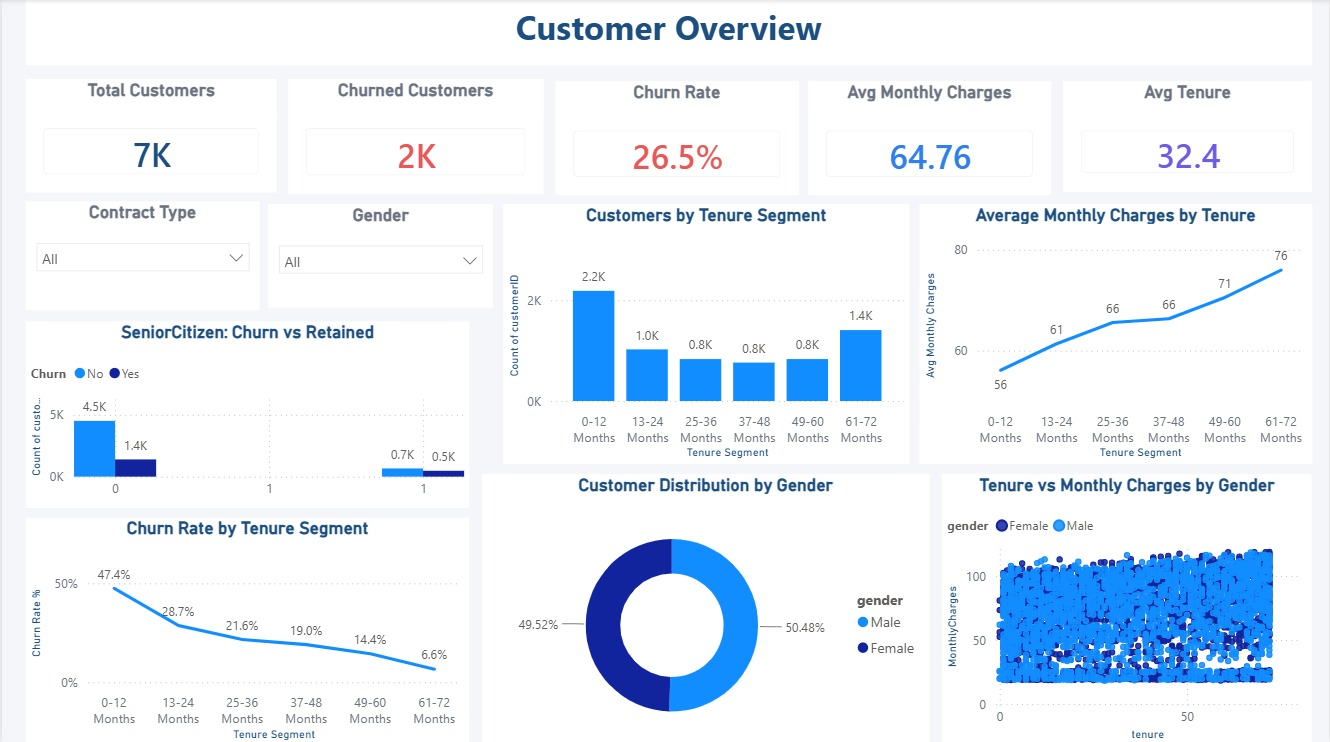

Layout of this report page (visuals, bound fields, positions):
{"tool":"powerbi","page":{"name":"Customer Overview","canvas":[1280,720],"ordinal":0},"visuals":[{"type":"textbox","box":[22.9,0,1241.4,63.9],"z":0},{"type":"cardVisual","title":"Total Customers","fields":{"Data":["Customers.Total Customers"]},"box":[22.9,77.2,242.5,109.8],"z":1000},{"type":"cardVisual","title":"Churned Customers","fields":{"Data":["Customers.Churned Customers"]},"box":[276.3,77.2,246.1,111],"z":2000},{"type":"cardVisual","title":"Churn Rate","fields":{"Data":["Customers.Churn Rate %"]},"box":[534.5,79.6,234,109.8],"z":3000},{"type":"cardVisual","title":"Avg Monthly Charges","fields":{"Data":["Customers.Avg Monthly Charges"]},"box":[778.2,79.6,234,109.8],"z":4000},{"type":"cardVisual","title":"Avg Tenure","fields":{"Data":["Customers.Avg Tenure"]},"box":[1024.3,79.6,240.1,106.2],"z":5000},{"type":"slicer","title":"Gender","fields":{"Values":["Customers.gender"]},"box":[257,197.9,217.2,100.1],"z":6000},{"type":"slicer","title":"Contract Type","fields":{"Values":["Customers.Contract"]},"box":[22.9,195.4,225.6,105],"z":7000},{"type":"donutChart","title":"Customer Distribution by Gender","fields":{"Category":["Customers.gender"],"Y":["CountNonNull(Customers.customerID)"]},"box":[463.3,458.4,431.9,261.8],"z":8000},{"type":"clusteredColumnChart","title":"Customers by Tenure Segment","fields":{"Category":["Customers.Tenure Segment"],"Y":["CountNonNull(Customers.customerID)"]},"box":[483.8,197.9,392.1,250.9],"z":10000},{"type":"lineChart","title":"Churn Rate by Tenure Segment","fields":{"Category":["Customers.Tenure Segment"],"Y":["Customers.Churn Rate %"]},"box":[22.9,500.7,428.3,219.6],"z":11000},{"type":"lineChart","title":"Average Monthly Charges by Tenure","fields":{"Category":["Customers.Tenure Segment"],"Y":["Customers.Avg Monthly Charges"]},"box":[885.5,197.9,378.8,250.9],"z":12000},{"type":"scatterChart","title":"Tenure vs Monthly Charges by Gender","fields":{"X":["Customers.tenure"],"Y":["Customers.MonthlyCharges"],"Series":["Customers.gender"]},"box":[907.2,458.4,357.1,261.8],"z":13000},{"type":"clusteredColumnChart","title":"SeniorCitizen: Churn vs Retained","fields":{"Y":["CountNonNull(Customers.customerID)"],"Category":["Customers.SeniorCitizen"],"Series":["Customers.Churn"]},"box":[22.9,311.3,428.3,179.8],"z":14000}]}

Visuals, with their boxes in screenshot pixels (x1, y1, x2, y2), scaled from the page's 1280x720 canvas onto the 1330x742 screenshot:
textbox: region(24, 0, 1314, 66)
"Total Customers" cardVisual: region(24, 80, 276, 193)
"Churned Customers" cardVisual: region(287, 80, 543, 194)
"Churn Rate" cardVisual: region(555, 82, 799, 195)
"Avg Monthly Charges" cardVisual: region(809, 82, 1052, 195)
"Avg Tenure" cardVisual: region(1064, 82, 1314, 191)
"Gender" slicer: region(267, 204, 493, 307)
"Contract Type" slicer: region(24, 201, 258, 310)
"Customer Distribution by Gender" donutChart: region(481, 472, 930, 741)
"Customers by Tenure Segment" clusteredColumnChart: region(503, 204, 910, 463)
"Churn Rate by Tenure Segment" lineChart: region(24, 516, 469, 741)
"Average Monthly Charges by Tenure" lineChart: region(920, 204, 1314, 463)
"Tenure vs Monthly Charges by Gender" scatterChart: region(943, 472, 1314, 741)
"SeniorCitizen: Churn vs Retained" clusteredColumnChart: region(24, 321, 469, 506)
